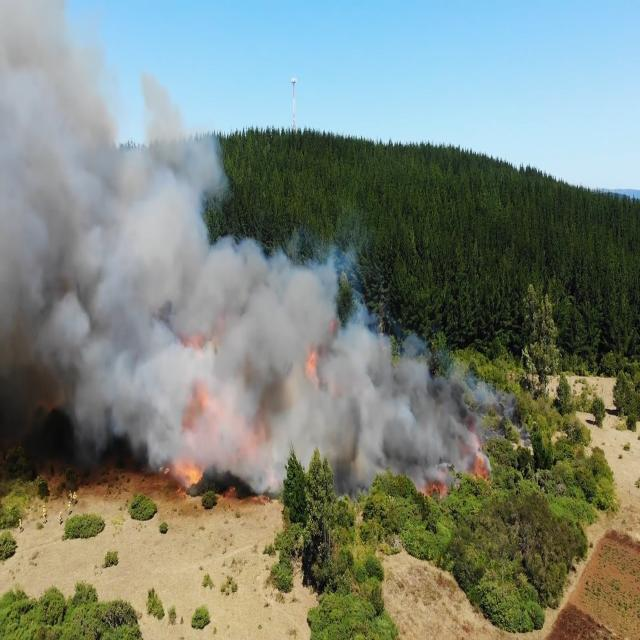Fire: (408, 445, 502, 502), (303, 311, 343, 392), (176, 448, 204, 496)
Smoke: (0, 2, 223, 499), (214, 238, 504, 506)
